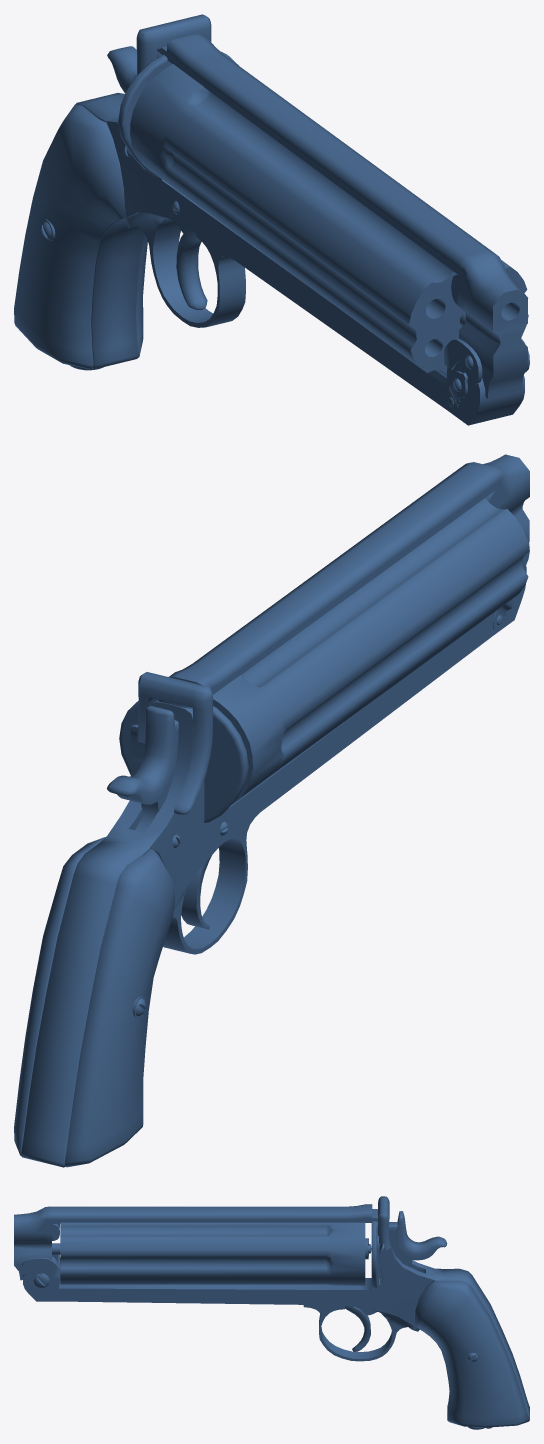
The picture shows the model from 3 angles, top to bottom: view 1: azimuth 30°, elevation 25°; view 2: azimuth 150°, elevation 25°; view 3: azimuth 270°, elevation 25°; orthographic projection. The views are drawn at different scales.
Visible parts, largest first — view 1: tranq_LP; view 2: tranq_LP; view 3: tranq_LP.
Boxes of the visible parts, x1,y1,x2,y2 form: tranq_LP: (14,14,529,425); tranq_LP: (14,454,529,1167); tranq_LP: (14,1196,529,1429).
Bounding box in the file's own units: 11.16 × 34.29 × 71.75.
